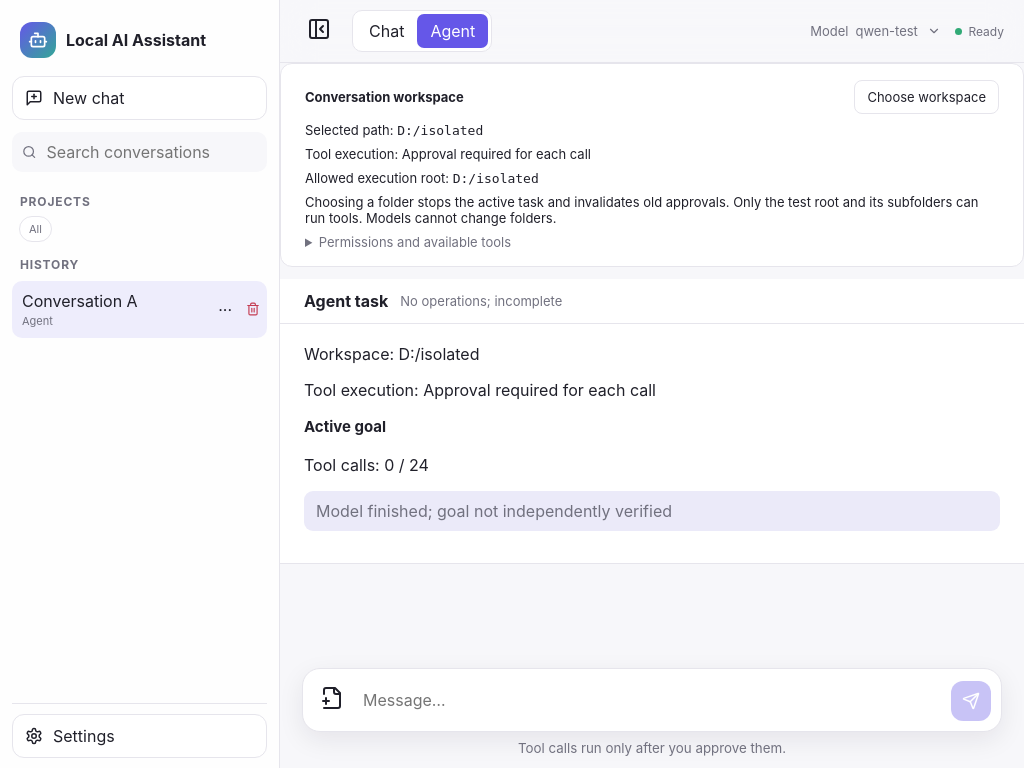
modern desktop › does not restore Agent mode from a terminal history refresh after switching to Chat
This screenshot has width=1024, height=768.
Click the button "Chat" at (387, 31), box [356,14,417,48]
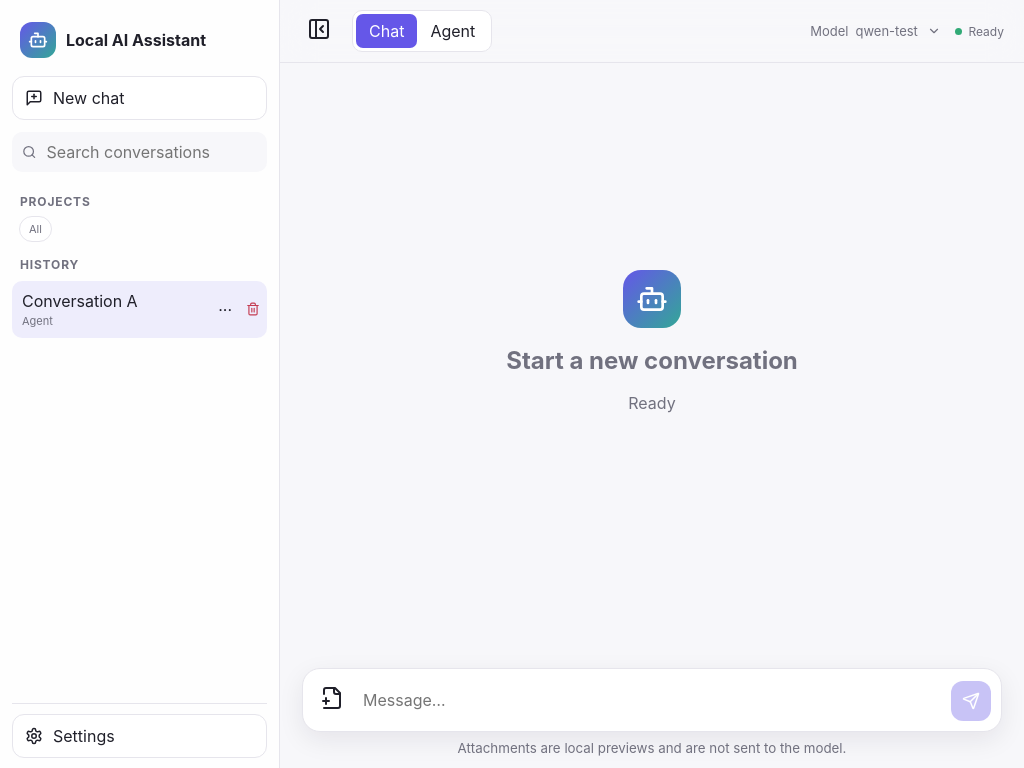
Result: the text "Agent task" is gone
